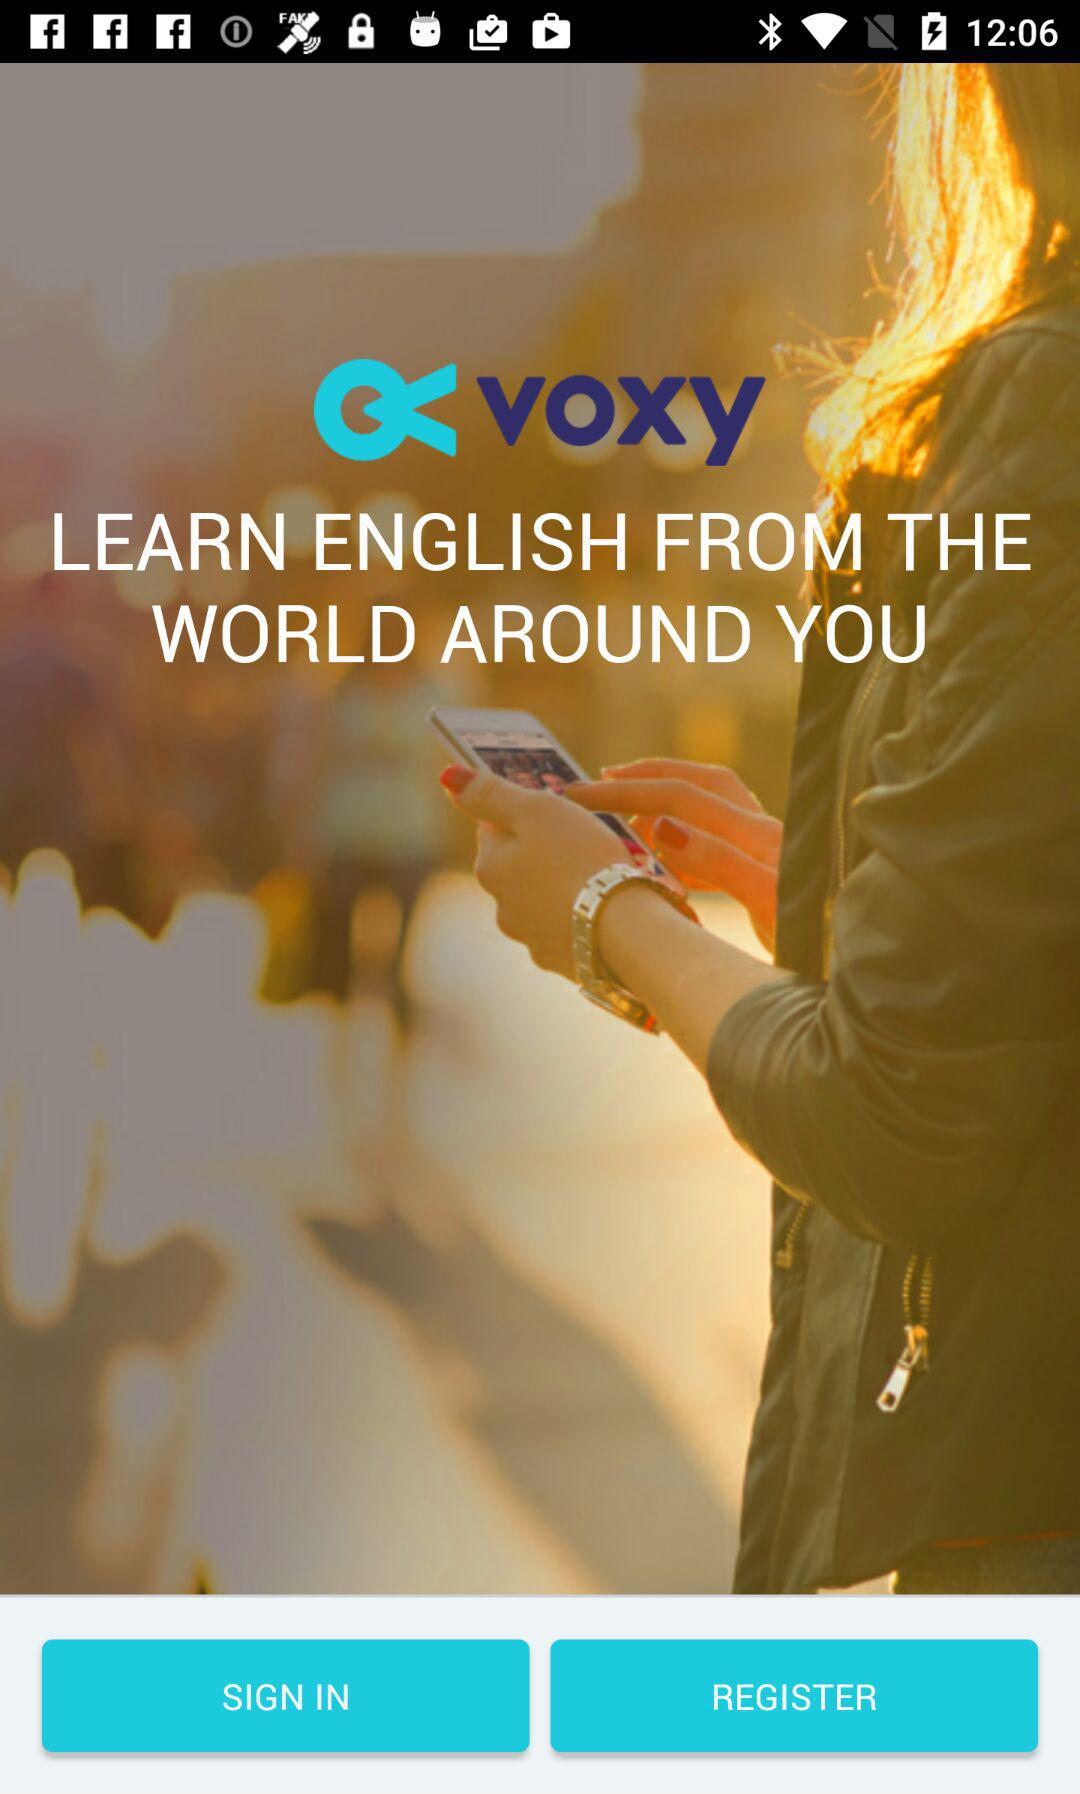Image: (1, 64, 1080, 1595), (313, 358, 766, 468)
Text: (53, 511, 1033, 666)
TextButton: (44, 1639, 530, 1753), (550, 1639, 1039, 1752)
UpperTaskBar: (1, 1, 1080, 64)
